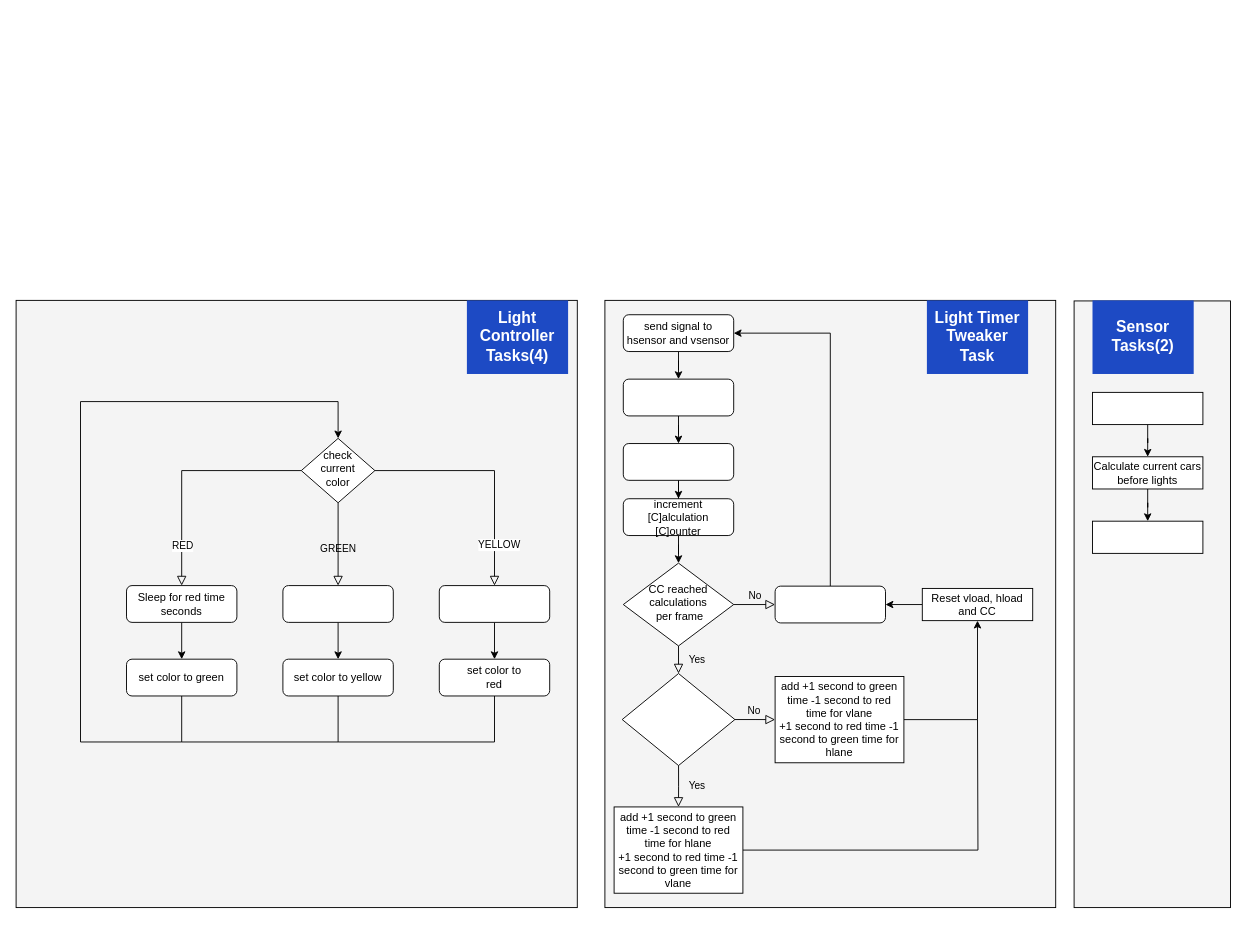
Image size: 1247x941. Some labels were removed from this diagram. The shapes that lost their labels are listed below. From the top down, each one's box as (x1, y1, x2, y2) in pixels, then its label:
(622, 378, 734, 416): read waiting cars count from sensors
(1092, 391, 1203, 425): Wait for signal
(622, 443, 734, 480): add sensors readings to vload and hload
(1092, 520, 1203, 553): Send calculations
(282, 585, 393, 622): Sleep for green time seconds
(438, 585, 550, 622): Sleep for yellow time seconds
(774, 585, 886, 623): sleep for delay time
(621, 673, 735, 766): vertical lane load was greater?
